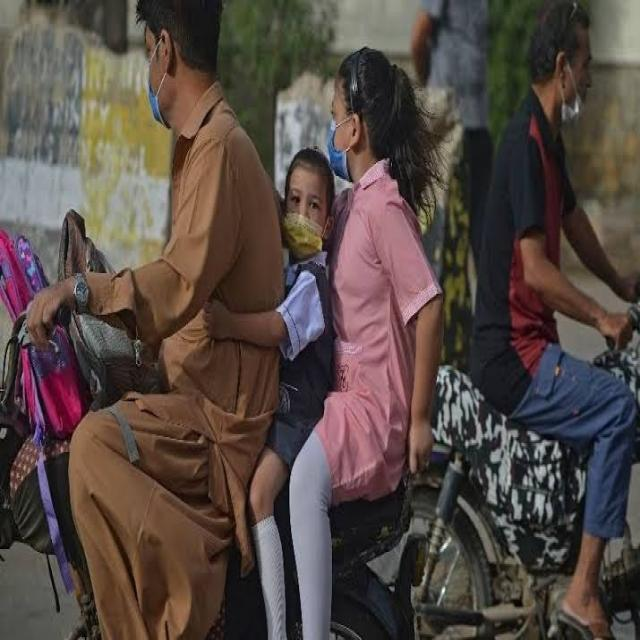Nonhelmet: (316, 39, 432, 189), (518, 0, 604, 127), (270, 139, 342, 265)
